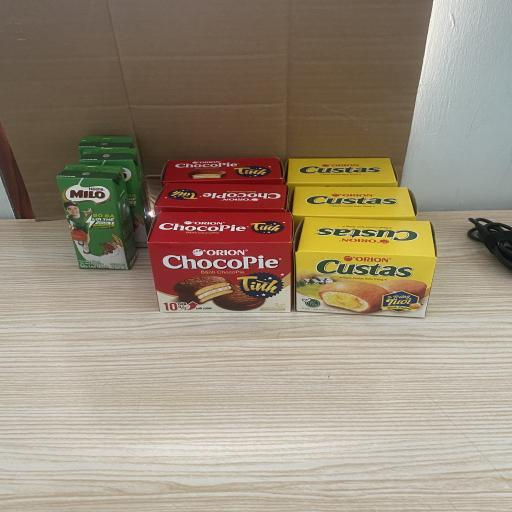chocopie: (146, 210, 292, 312), (154, 183, 286, 211), (161, 156, 283, 184)
custas: (294, 217, 437, 318), (290, 186, 415, 228), (285, 157, 398, 189)
milo: (55, 164, 137, 270), (78, 149, 148, 247), (77, 136, 147, 214)
